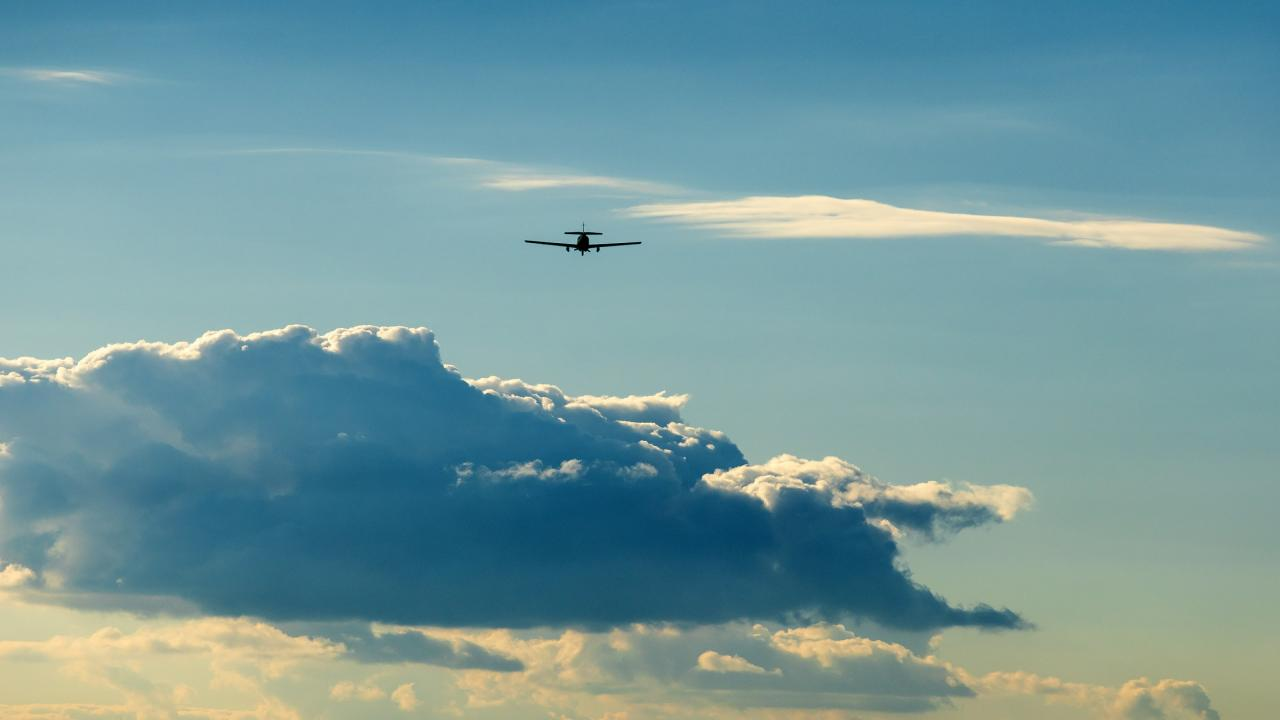Airplane: (516, 218, 654, 260)
